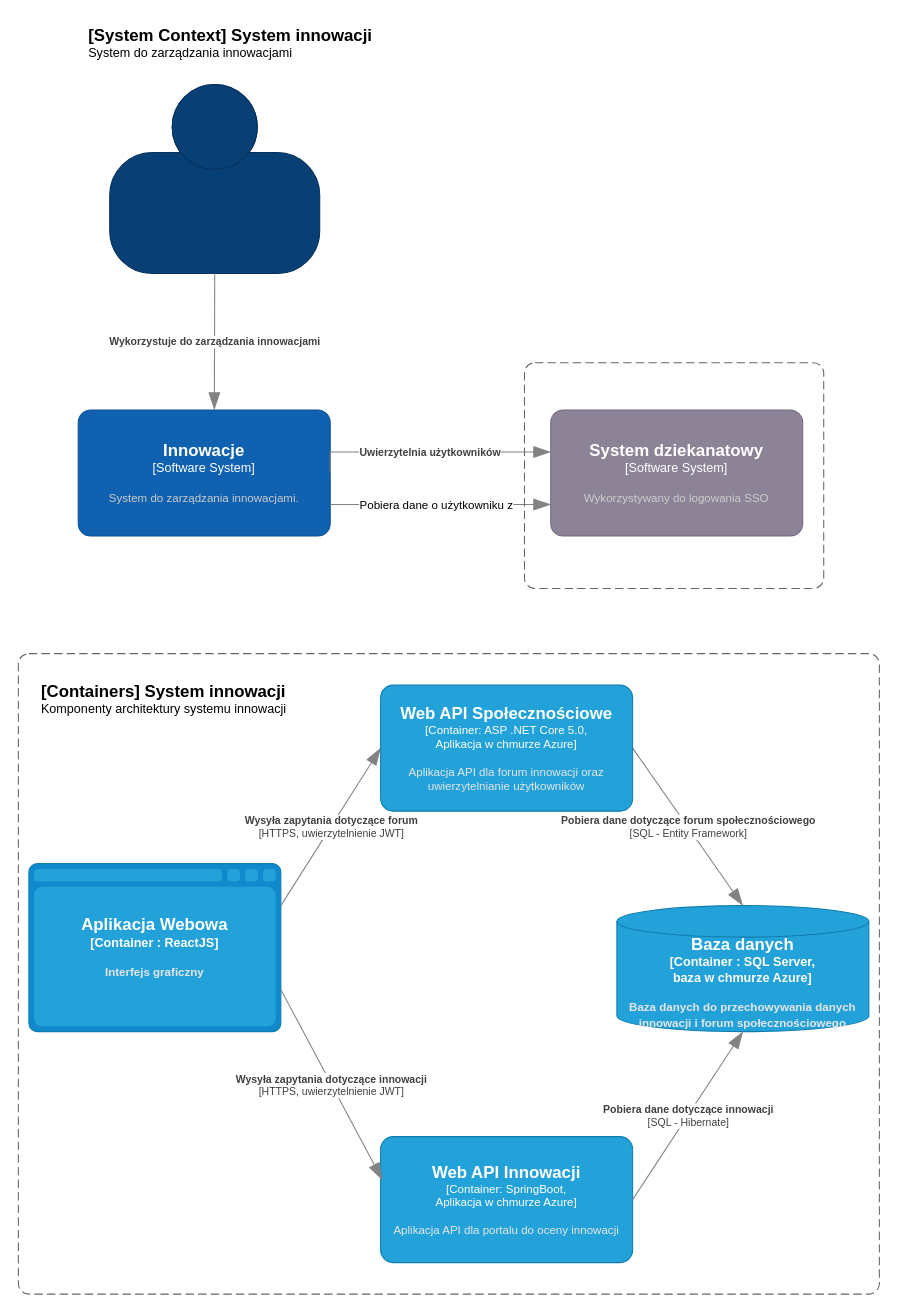
Some shapes in this 898 by 1313 pixel diagram are drawn without their labels. Here are the shapes that lost their labels. From the top down, the box of each, then its label:
(109, 83, 320, 274): Użytkownik [Person] Student, członek komisji, pracownik lub administrator
(523, 362, 824, 589): Mocked [Symulowany]
(17, 653, 879, 1294): Innowacje [Software System]
